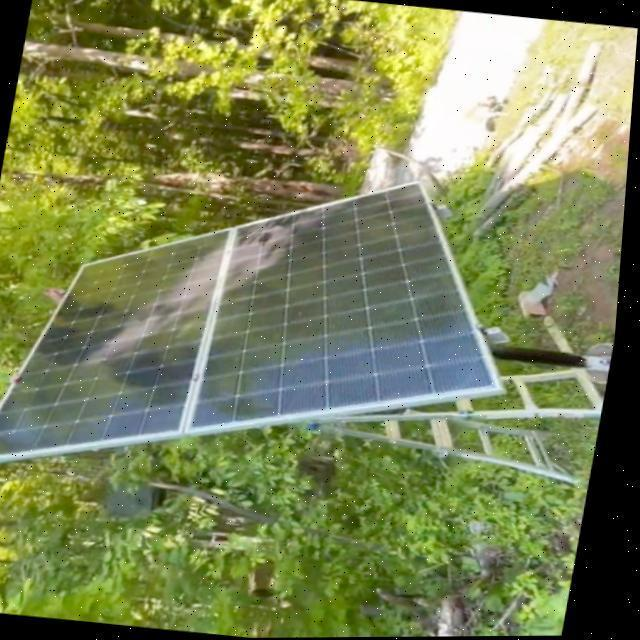Normal Solar Panel: (0, 142, 546, 518)
